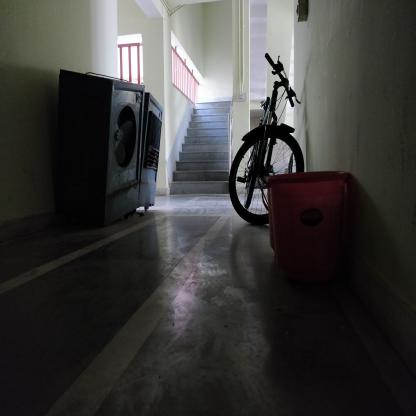stairs: (199, 102, 228, 199)
